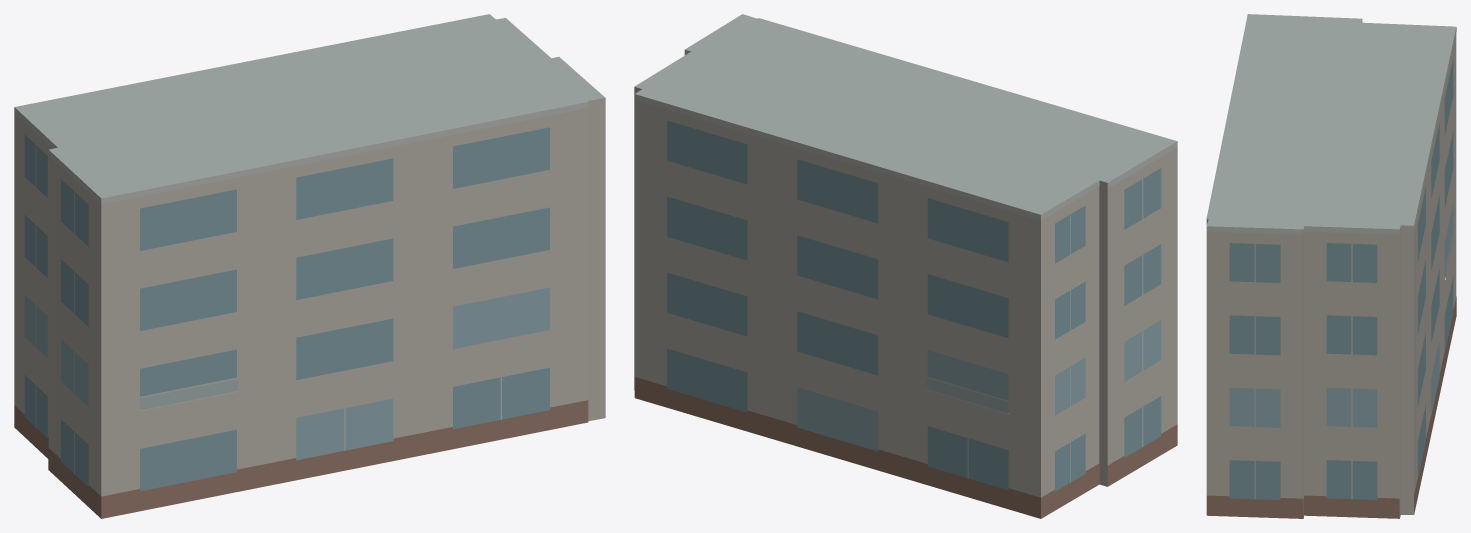
File: survey-upis-32957227.glb
3 views of the same model, side by side, from view 1: azimuth 30°, elevation 25°; view 2: azimuth 150°, elevation 25°; view 3: azimuth 270°, elevation 25° (orthographic). The views are drawn at different scales.
Parts seen in each view (by area): view 1: survey-upis-32957227.tmp; view 2: survey-upis-32957227.tmp; view 3: survey-upis-32957227.tmp.
Boxes of the visible parts, x1=… form: survey-upis-32957227.tmp: x1=14, y1=14, x2=605, y2=518; survey-upis-32957227.tmp: x1=634, y1=14, x2=1177, y2=518; survey-upis-32957227.tmp: x1=1206, y1=14, x2=1456, y2=518.
Bounding box in the file's own units: 20.76 × 13 × 10.18.
